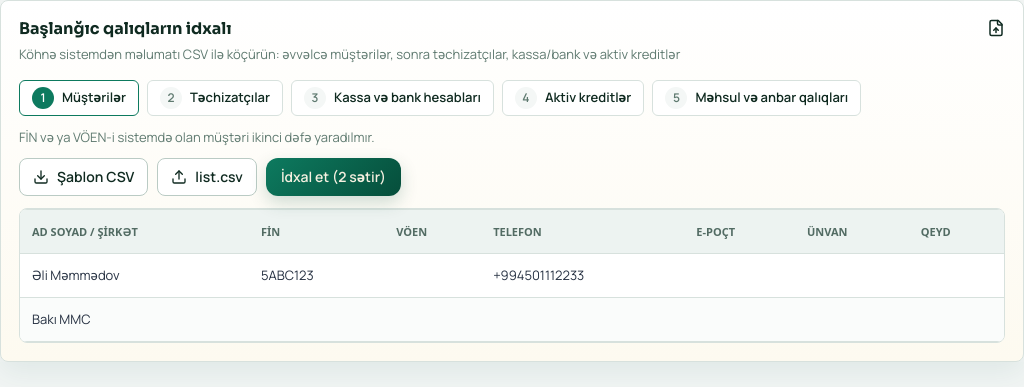
Test: previews a customer file, imports it once and reports created and skipped rows
Earlier steps of the test are not shown.
Expected: the text "Əli Məmmədov" is shown, [20,254,249,298]
Click the button "İdxal et (2 sətir)" at (334, 178), box [266,158,401,196]
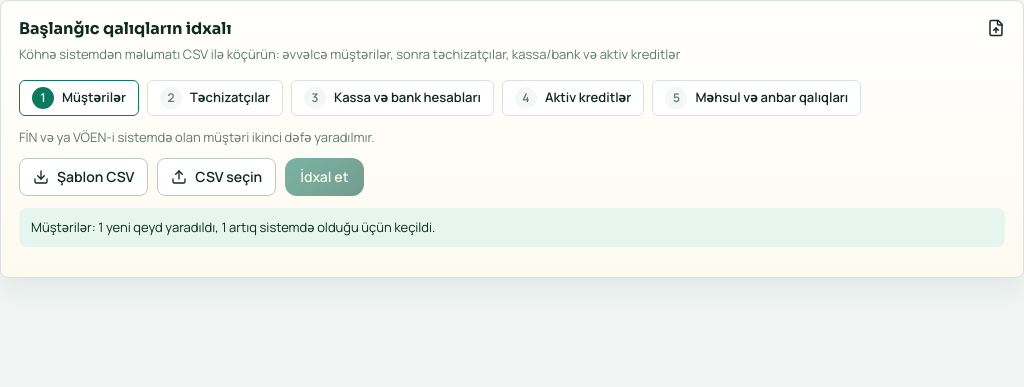
Expected: the message reads "Müştərilər: 1 yeni qeyd yaradıldı, 1 artıq sistemdə olduğu üçün keçildi.", [31,218,435,236]
